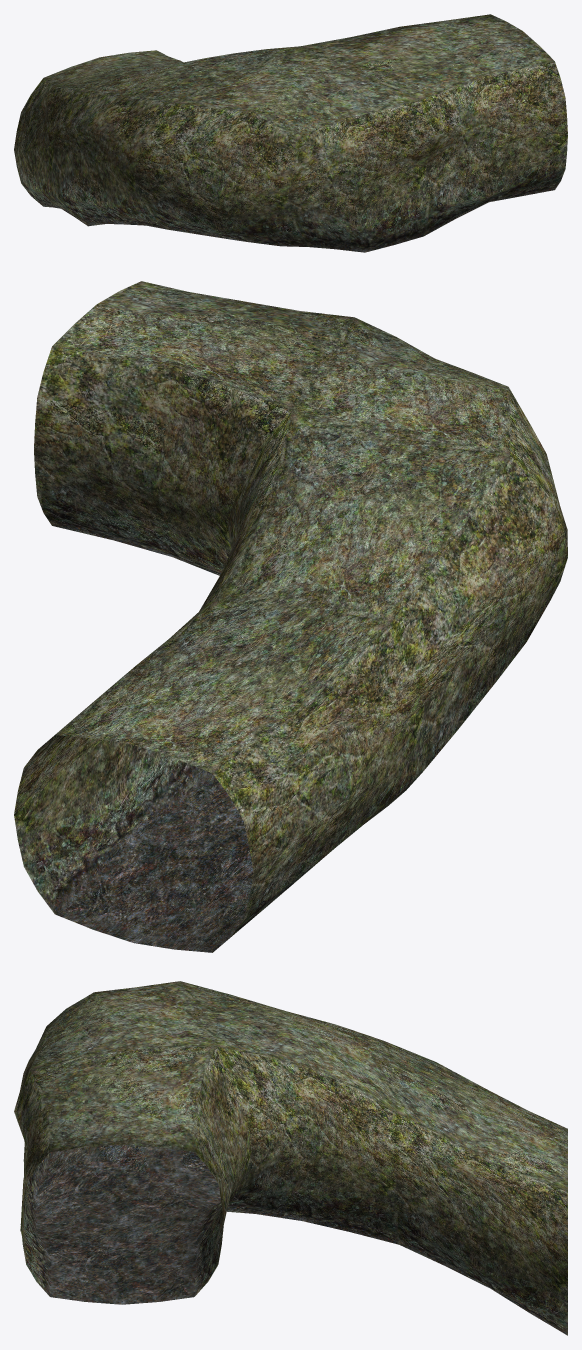
The model's file is thm_all_cave_flatland_s03_damprock_r23_r23.fbx.
The picture shows the model from 3 angles, top to bottom: view 1: azimuth 30°, elevation 25°; view 2: azimuth 150°, elevation 25°; view 3: azimuth 270°, elevation 25°; orthographic projection. The views are drawn at different scales.
Parts seen in each view (by area): view 1: mesh_node; view 2: mesh_node; view 3: mesh_node.
Part boxes in pixels (x1,y1,x2,y2): mesh_node: (14,14,567,252); mesh_node: (14,281,567,952); mesh_node: (14,981,567,1335).
Bounding box in the file's own units: 21.23 × 14.67 × 24.86.
